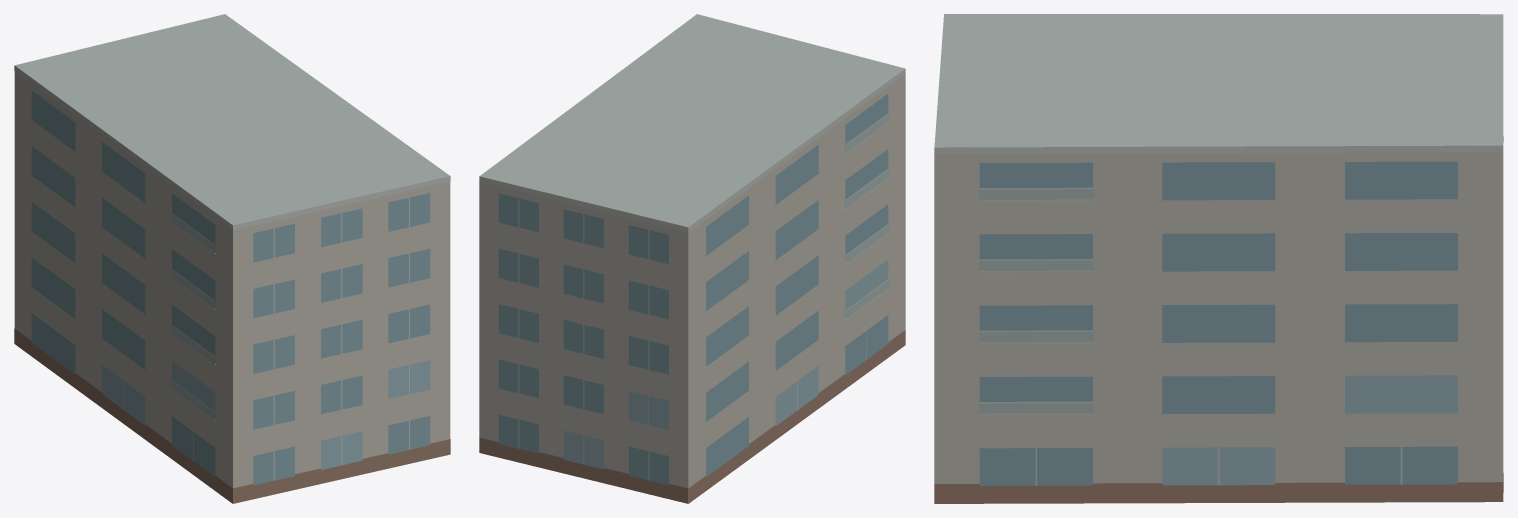
Rendered from survey-upis-32631286.glb.
3 renders of one model, left to right at view 1: azimuth 30°, elevation 25°; view 2: azimuth 150°, elevation 25°; view 3: azimuth 270°, elevation 25°, orthographic. The views are drawn at different scales.
Parts seen in each view (by area): view 1: survey-upis-32631286.tmp; view 2: survey-upis-32631286.tmp; view 3: survey-upis-32631286.tmp.
Part boxes in pixels (x1=…): survey-upis-32631286.tmp: x1=14, y1=14, x2=450, y2=503; survey-upis-32631286.tmp: x1=479, y1=14, x2=905, y2=503; survey-upis-32631286.tmp: x1=934, y1=14, x2=1503, y2=503.
Size of the model in its own units: 10.51 by 13 by 18.82.
